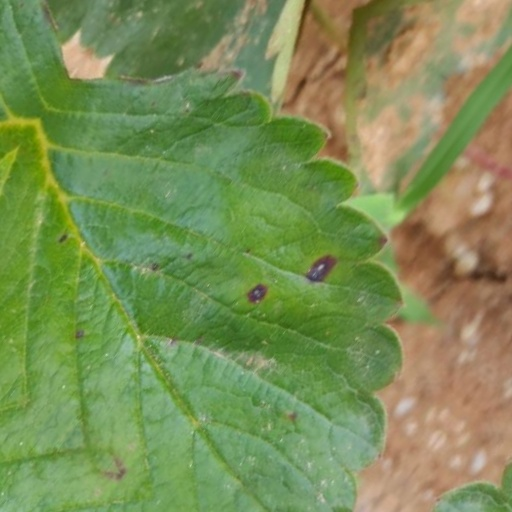Leaf Spot: (0, 111, 503, 511)
